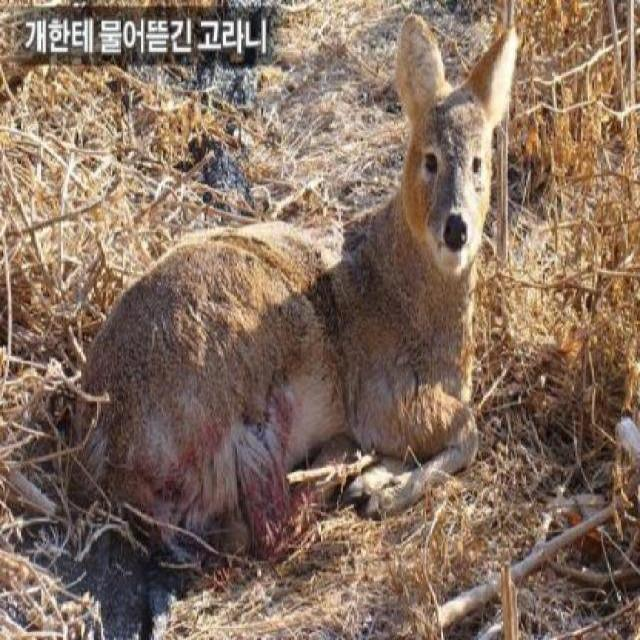deer: (74, 65, 492, 458)
